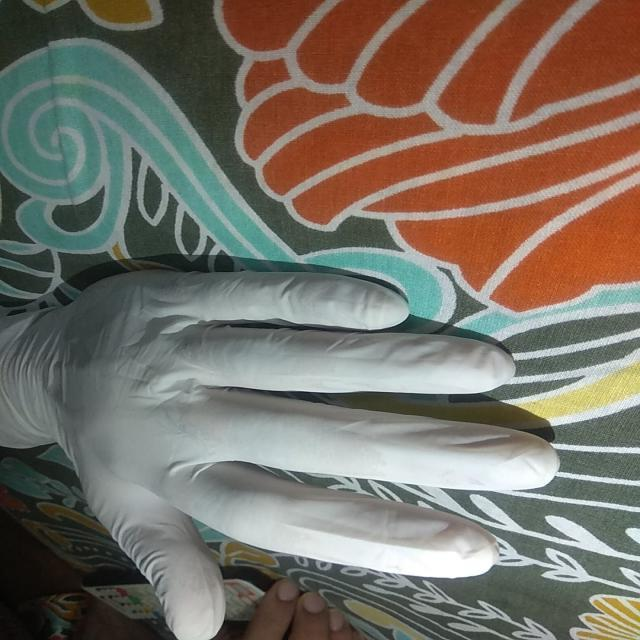gloved_hand: (2, 258, 570, 640)
